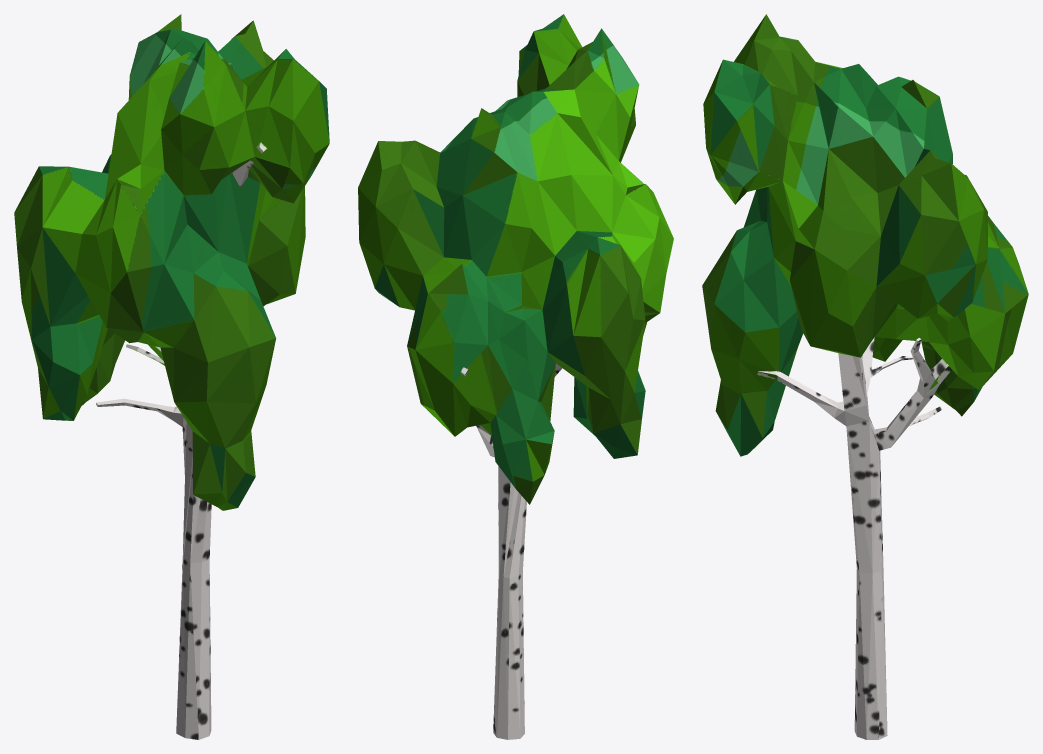
File: tree4.glb
The picture shows the model from 3 angles, left to right: view 1: azimuth 30°, elevation 25°; view 2: azimuth 150°, elevation 25°; view 3: azimuth 270°, elevation 25°; orthographic projection. The views are drawn at different scales.
Parts seen in each view (by area): view 1: geometry_0; view 2: geometry_0; view 3: geometry_0.
Boxes of the visible parts, <box> form: geometry_0: <box>14,14,329,739</box>; geometry_0: <box>358,14,673,739</box>; geometry_0: <box>702,14,1028,739</box>.
Bounding box in the file's own units: 0.8389 × 2.13 × 0.9015.
Materials: 1 (1 with a texture image).
